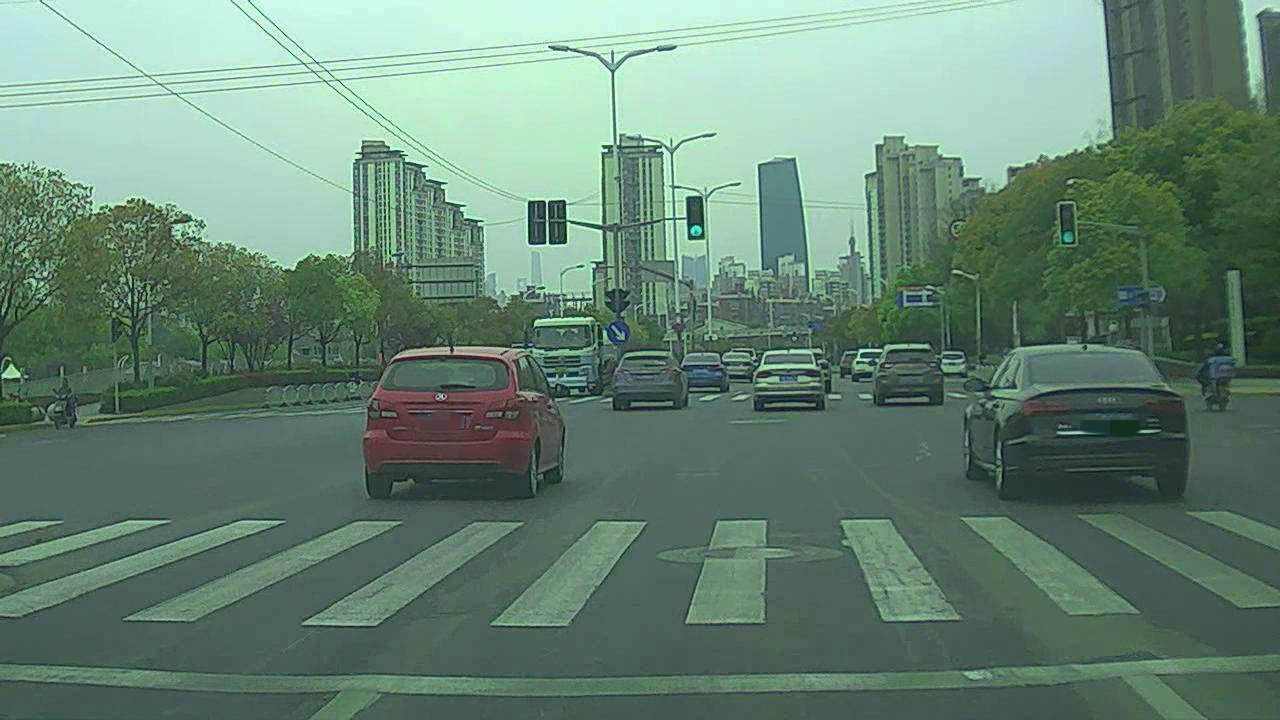traffic_light: (684, 196, 709, 243), (1059, 199, 1079, 250)
